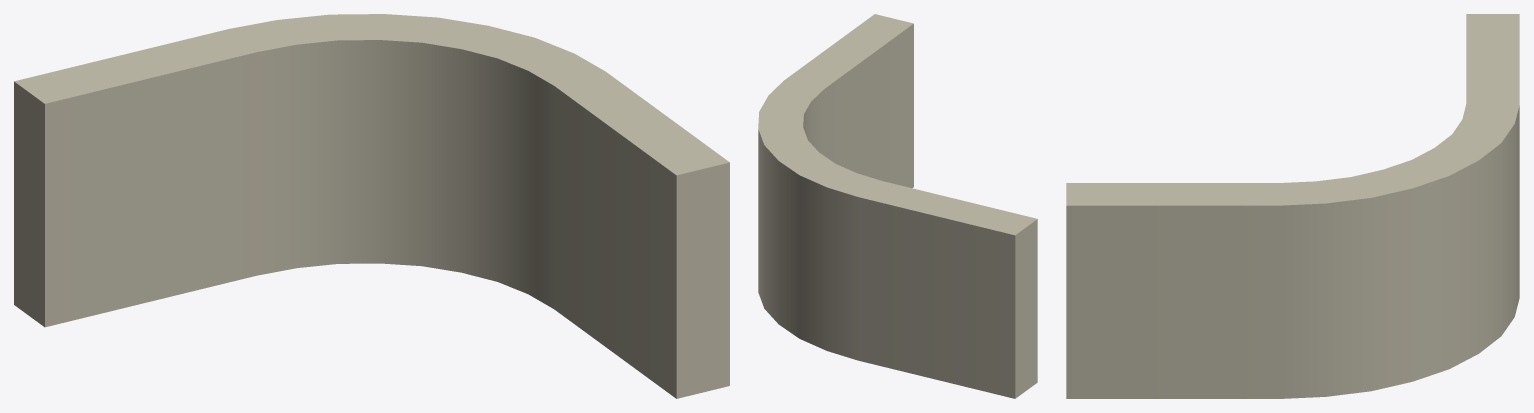
File: Scifi2_WallB_Corner04_Collision.fbx
The picture shows the model from 3 angles, left to right: view 1: azimuth 30°, elevation 25°; view 2: azimuth 150°, elevation 25°; view 3: azimuth 270°, elevation 25°; orthographic projection. The views are drawn at different scales.
Parts seen in each view (by area): view 1: WallB_Corner_04_CX; view 2: WallB_Corner_04_CX; view 3: WallB_Corner_04_CX.
Boxes of the visible parts, x1,y1,x2,y2 form: WallB_Corner_04_CX: (14,14,729,398); WallB_Corner_04_CX: (758,14,1037,398); WallB_Corner_04_CX: (1066,14,1519,398).
Bounding box in the file's own units: 850 × 400 × 850.
